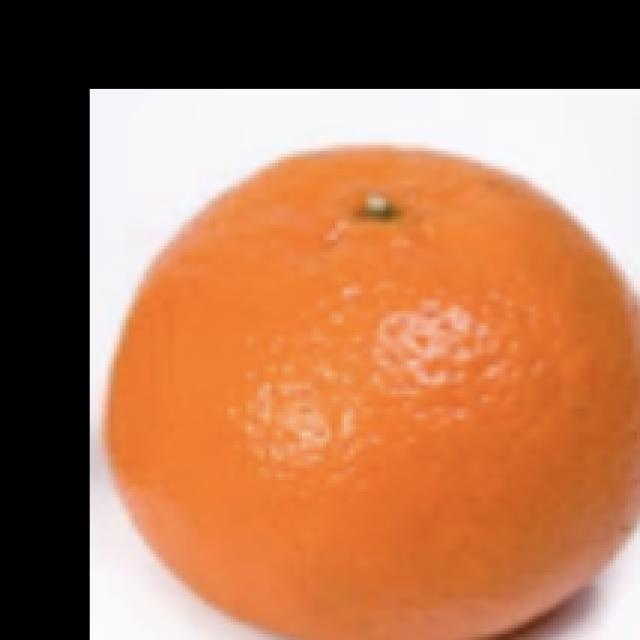Orange: (104, 141, 639, 639)
